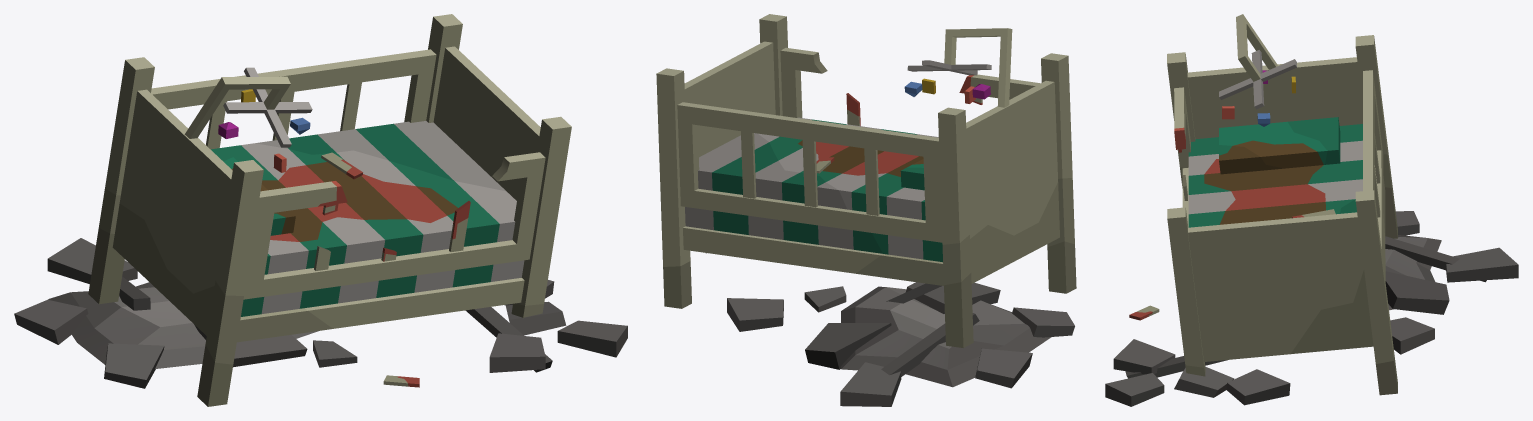
Rendered from AI_Prop_Crib_Broken.fbx.
3 renders of one model, left to right at view 1: azimuth 30°, elevation 25°; view 2: azimuth 150°, elevation 25°; view 3: azimuth 270°, elevation 25°, orthographic. The views are drawn at different scales.
Parts seen in each view (by area): view 1: AI_Prop_Crib_Broken; view 2: AI_Prop_Crib_Broken; view 3: AI_Prop_Crib_Broken.
Boxes of the visible parts, x1,y1,x2,y2 form: AI_Prop_Crib_Broken: (14, 14, 627, 406); AI_Prop_Crib_Broken: (656, 14, 1076, 406); AI_Prop_Crib_Broken: (1105, 14, 1518, 406).
Bounding box in the file's own units: 3.68 × 2.43 × 3.46.
